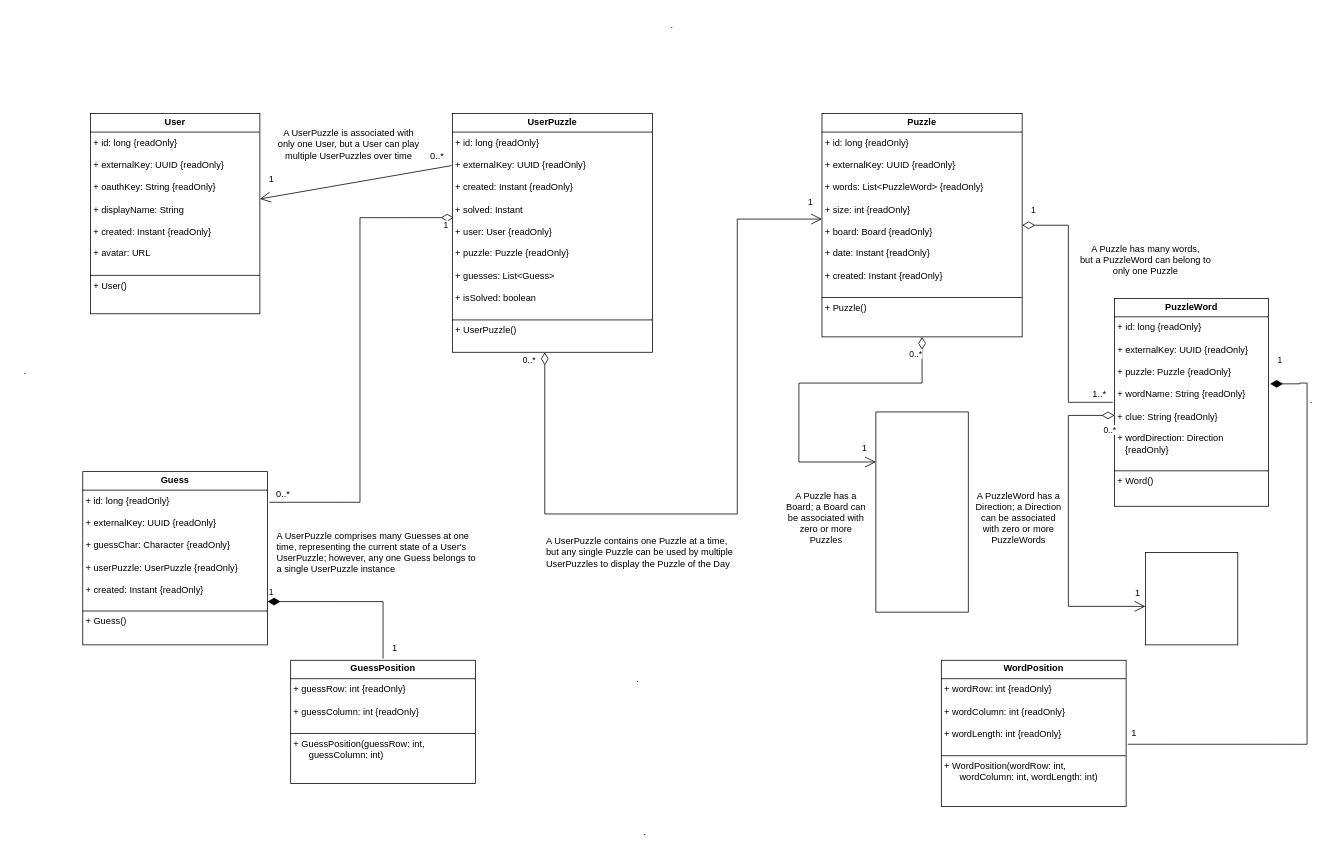
This 1335x856 diagram has some shape labels left out. Each missing label, with the centre of its shape:
«enumeration» Board SUNDAY MONDAY TUESDAY WEDNESDAY THURSDAY FRIDAY SATURDAY: (x=921, y=511)
«enumeration» Direction ACROSS DOWN: (x=1191, y=598)
